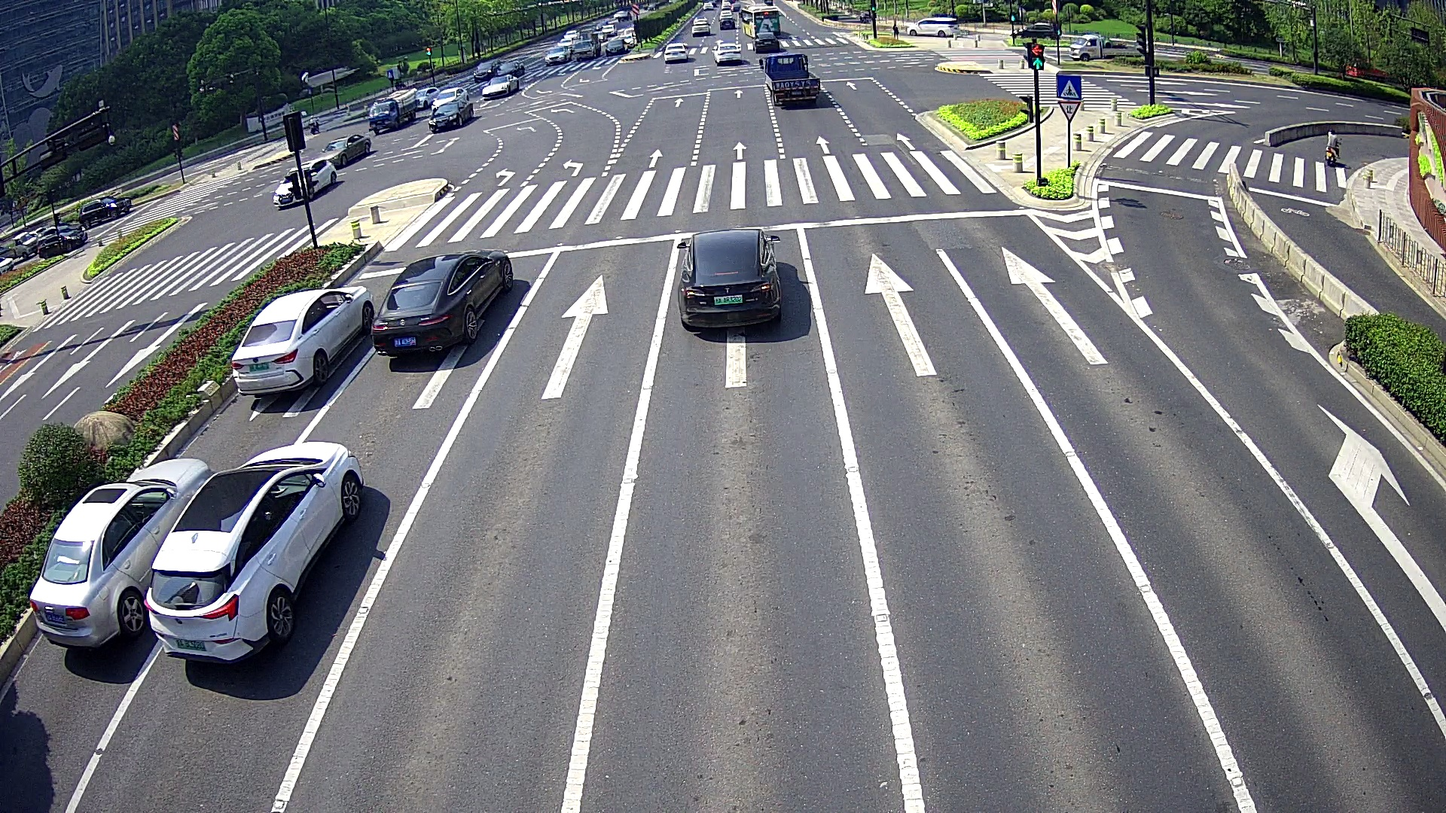vehicle: (143, 440, 368, 675), (27, 452, 218, 653), (368, 242, 520, 358), (229, 285, 380, 399), (674, 226, 784, 338), (752, 52, 822, 111), (272, 160, 334, 206), (365, 84, 419, 130), (312, 134, 376, 162), (426, 99, 475, 134), (74, 194, 136, 221)
